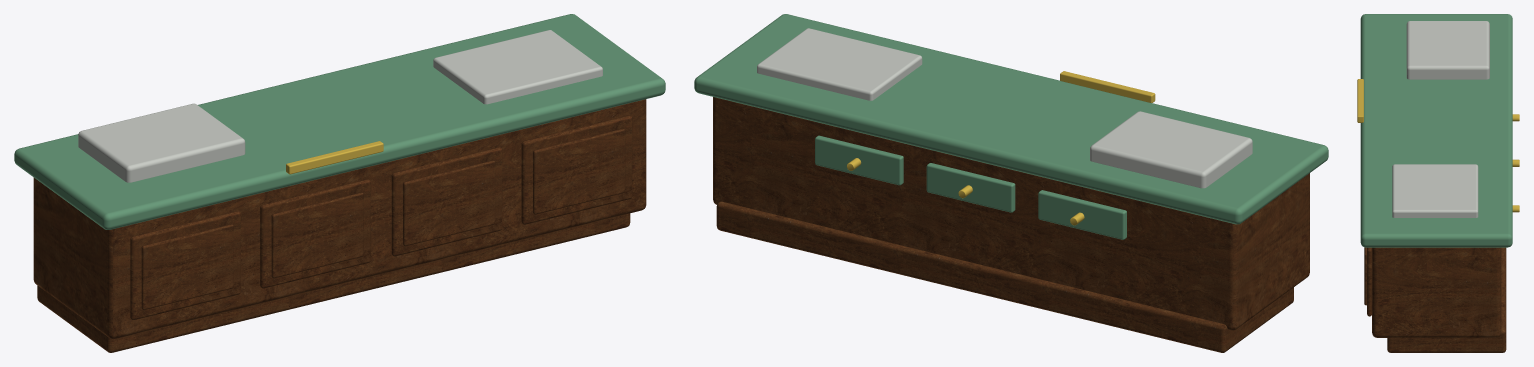
Rendered from miller_checkout_counter.glb.
3 views of the same model, side by side, from view 1: azimuth 30°, elevation 25°; view 2: azimuth 150°, elevation 25°; view 3: azimuth 270°, elevation 25° (orthographic). The views are drawn at different scales.
Parts seen in each view (by area): view 1: miller_checkout_counter_miller_worn_oak_pbr, miller_checkout_counter_miller_forest_enamel_pbr, miller_checkout_counter_miller_dark_oak_pbr, miller_checkout_counter_miller_galvanized_steel_pbr, miller_checkout_counter_miller_safety_yellow_enamel_pbr; view 2: miller_checkout_counter_miller_worn_oak_pbr, miller_checkout_counter_miller_forest_enamel_pbr, miller_checkout_counter_miller_dark_oak_pbr, miller_checkout_counter_miller_galvanized_steel_pbr, miller_checkout_counter_miller_safety_yellow_enamel_pbr; view 3: miller_checkout_counter_miller_forest_enamel_pbr, miller_checkout_counter_miller_worn_oak_pbr, miller_checkout_counter_miller_galvanized_steel_pbr, miller_checkout_counter_miller_dark_oak_pbr, miller_checkout_counter_miller_safety_yellow_enamel_pbr.
Part boxes in pixels (x1,y1,x2,y2): miller_checkout_counter_miller_worn_oak_pbr: (33,99,646,338); miller_checkout_counter_miller_forest_enamel_pbr: (14,14,665,229); miller_checkout_counter_miller_dark_oak_pbr: (37,115,632,352); miller_checkout_counter_miller_galvanized_steel_pbr: (78,30,602,182); miller_checkout_counter_miller_safety_yellow_enamel_pbr: (286,141,383,174); miller_checkout_counter_miller_worn_oak_pbr: (713,97,1309,330); miller_checkout_counter_miller_forest_enamel_pbr: (694,14,1328,239); miller_checkout_counter_miller_dark_oak_pbr: (716,201,1293,352); miller_checkout_counter_miller_galvanized_steel_pbr: (757,28,1252,188); miller_checkout_counter_miller_safety_yellow_enamel_pbr: (846,71,1155,225); miller_checkout_counter_miller_forest_enamel_pbr: (1360,14,1512,247); miller_checkout_counter_miller_worn_oak_pbr: (1364,247,1501,337); miller_checkout_counter_miller_galvanized_steel_pbr: (1392,21,1489,217); miller_checkout_counter_miller_dark_oak_pbr: (1367,247,1506,352); miller_checkout_counter_miller_safety_yellow_enamel_pbr: (1357,79,1519,212).
Bounding box in the file's own units: 3.68 × 1.07 × 1.13.
Materials: 5 (2 with a texture image).
